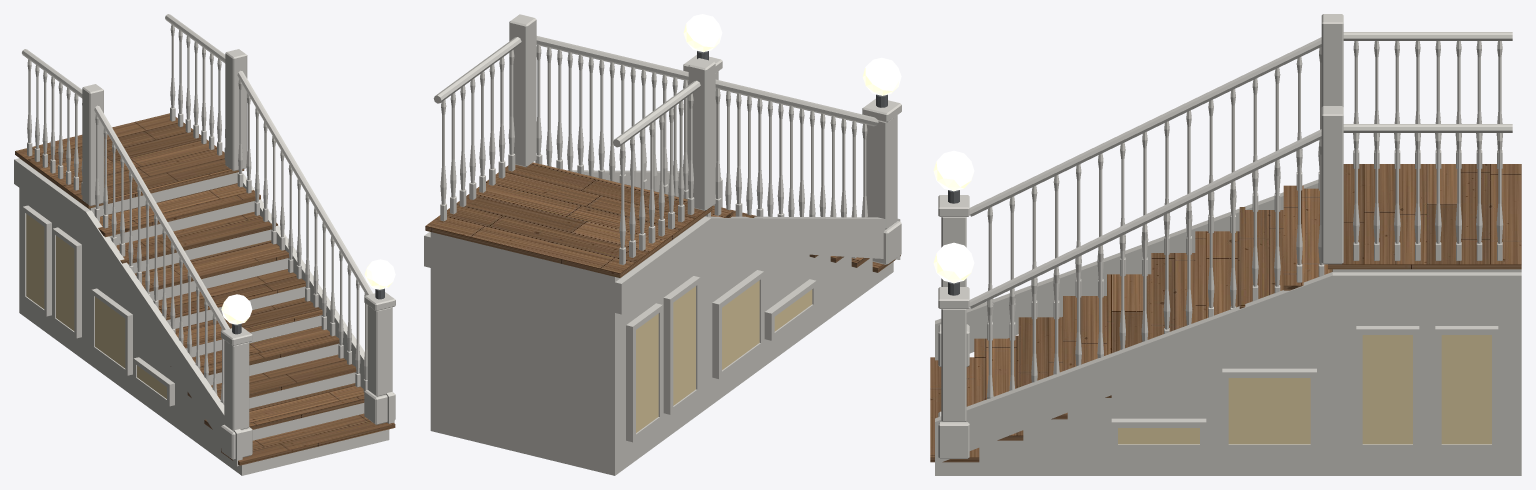
File: stoop_c.glb
3 views of the same model, side by side, from view 1: azimuth 30°, elevation 25°; view 2: azimuth 150°, elevation 25°; view 3: azimuth 270°, elevation 25° (orthographic). The views are drawn at different scales.
Parts seen in each view (by area): view 1: stoop_c_trim, stoop_c_deck, stoop_c_acc_c, stoop_c_lamp_glass; view 2: stoop_c_trim, stoop_c_deck, stoop_c_acc_c, stoop_c_lamp_glass; view 3: stoop_c_trim, stoop_c_deck, stoop_c_acc_c, stoop_c_lamp_glass.
Boxes of the visible parts, x1,y1,x2,y2 form: stoop_c_trim: (14,14,395,475); stoop_c_deck: (15,113,395,465); stoop_c_acc_c: (26,214,166,398); stoop_c_lamp_glass: (221,259,395,324); stoop_c_trim: (424,14,901,475); stoop_c_deck: (425,162,900,277); stoop_c_acc_c: (636,280,812,432); stoop_c_lamp_glass: (683,14,901,95); stoop_c_trim: (935,14,1521,475); stoop_c_deck: (930,164,1521,462); stoop_c_acc_c: (1118,335,1491,444); stoop_c_lamp_glass: (933,150,974,283).
Bounding box in the file's own units: 1.64 × 2.55 × 3.75.
Materials: 5 (1 with a texture image).
